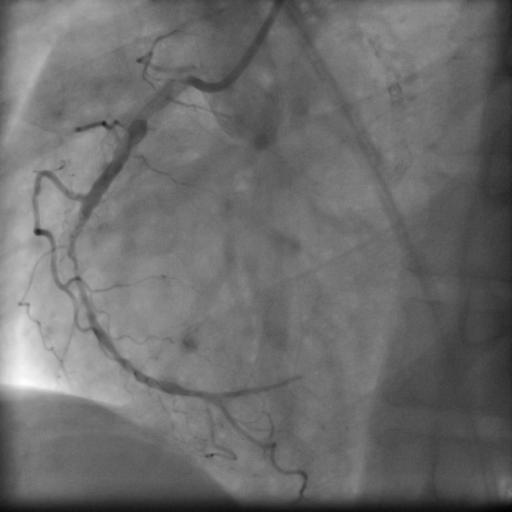Stenosis: (137, 89, 160, 125)
